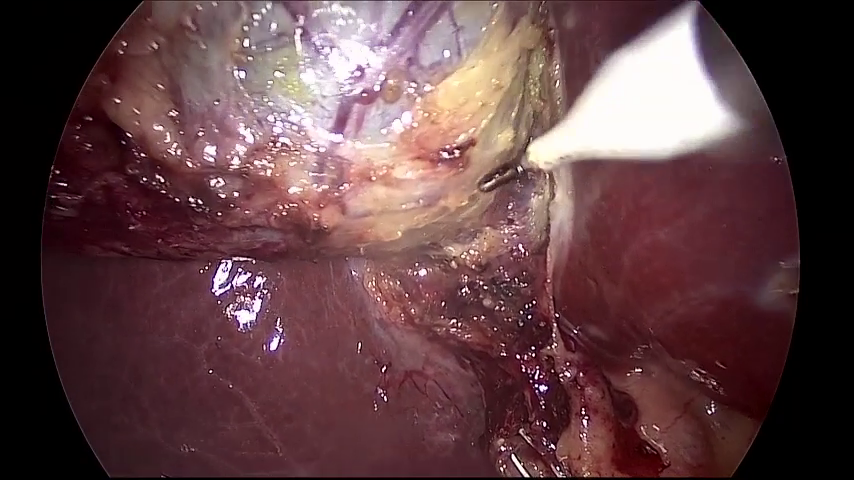lhook: (478, 1, 771, 191)
